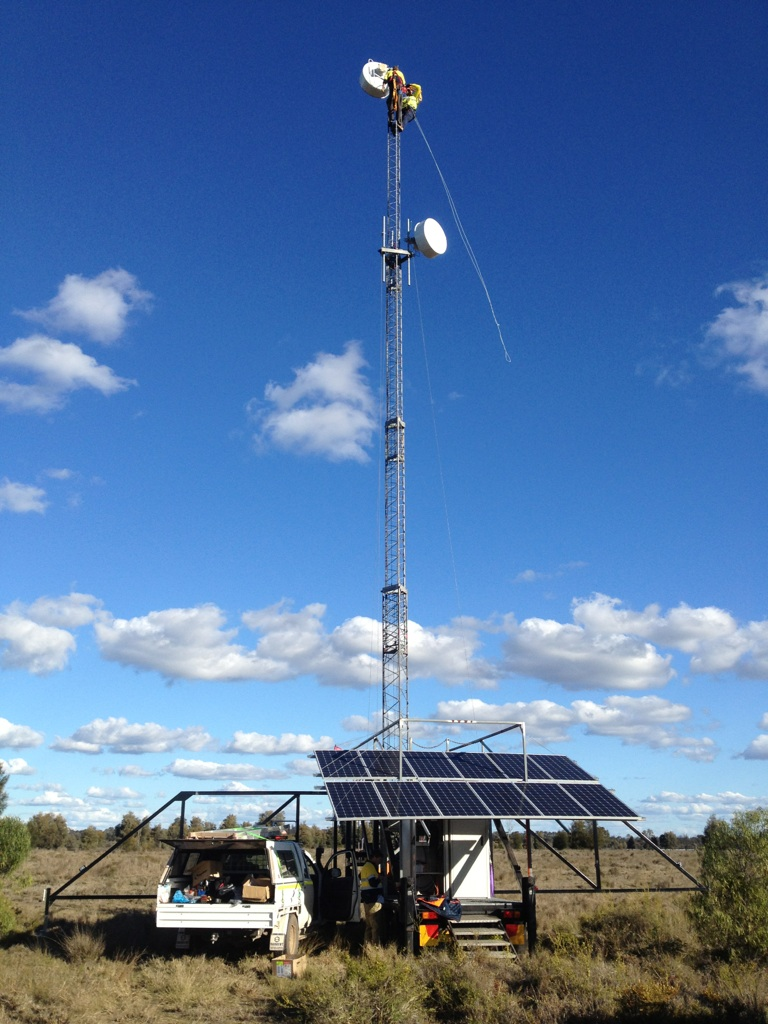ba: (409, 202, 453, 279)
